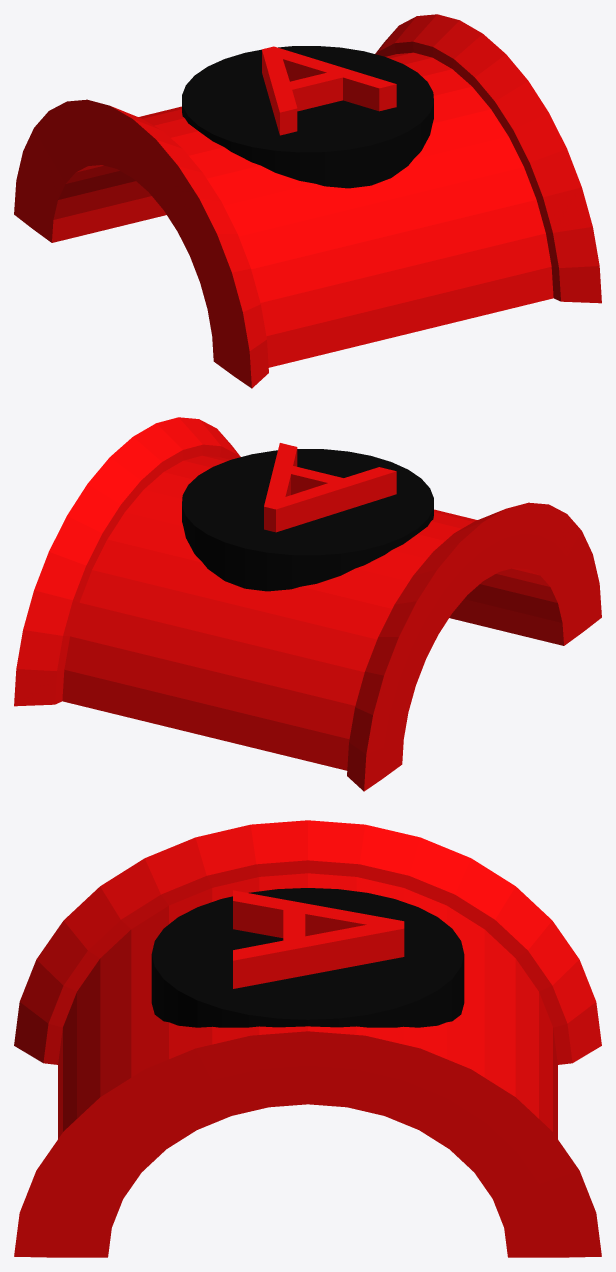
Rendered from AlphGate.fbx.
The picture shows the model from 3 angles, top to bottom: view 1: azimuth 30°, elevation 25°; view 2: azimuth 150°, elevation 25°; view 3: azimuth 270°, elevation 25°; orthographic projection. The views are drawn at different scales.
Visible parts, largest first — view 1: Cylinder.004; view 2: Cylinder.004; view 3: Cylinder.004.
Part boxes in pixels (x1,y1,x2,y2): Cylinder.004: (14, 14, 601, 388); Cylinder.004: (14, 417, 601, 791); Cylinder.004: (14, 820, 601, 1257).
Bounding box in the file's own units: 200 × 100 × 235.
